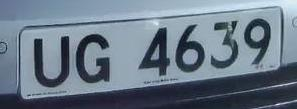3: (205, 15, 243, 73)
4: (133, 22, 175, 82)
6: (171, 18, 209, 77)
9: (240, 12, 275, 69)
G: (72, 28, 117, 89)
U: (30, 31, 75, 92)
